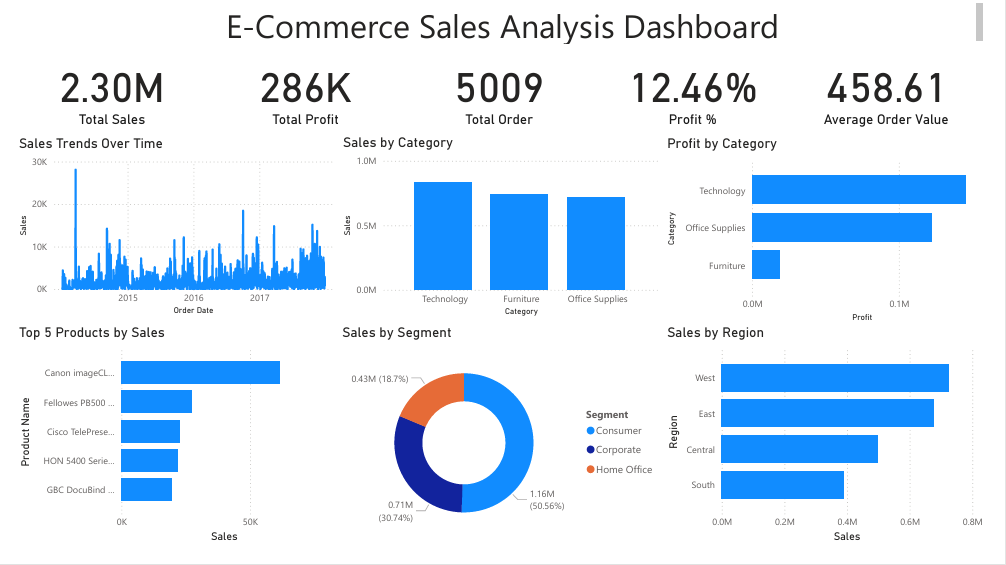

The dashboard page shown, as its layout file describes it:
{"tool":"powerbi","page":{"name":"order","canvas":[1280,720],"ordinal":0},"visuals":[{"type":"card","fields":{"Values":["Superstore.Total Sales"]},"box":[0,63.3,255,115],"z":0},{"type":"card","fields":{"Values":["Superstore.Total Profit"]},"box":[255,63.3,255,115],"z":1000},{"type":"card","fields":{"Values":["Superstore.Profit %"]},"box":[765,63.3,255,115],"z":2000},{"type":"card","fields":{"Values":["Superstore.Total Order"]},"box":[510,63.3,255,115],"z":3000},{"type":"lineChart","title":"Sales Trends Over Time","fields":{"Y":["Sum(Superstore.Sales)"],"Category":["Superstore.Order Date"]},"box":[0,178.8,426.2,242.5],"z":4000},{"type":"clusteredColumnChart","fields":{"Category":["Superstore.Category"],"Y":["Sum(Superstore.Sales)"]},"box":[426.7,178.3,426.7,243.3],"z":5000},{"type":"barChart","fields":{"Category":["Superstore.Category"],"Y":["Sum(Superstore.Profit)"]},"box":[853.8,178.8,426.2,250],"z":6000},{"type":"clusteredBarChart","fields":{"Category":["Superstore.Region"],"Y":["Sum(Superstore.Sales)"]},"box":[853.6,428.2,426.4,291.8],"z":7000},{"type":"donutChart","fields":{"Category":["Superstore.Segment"],"Y":["Sum(Superstore.Sales)"]},"box":[426.4,428.2,427.3,291.8],"z":8000},{"type":"textbox","box":[0,0,1280,63.3],"z":9000},{"type":"clusteredBarChart","title":"Top 5 Products by Sales","fields":{"Category":["Superstore.Product Name"],"Y":["Sum(Superstore.Sales)"]},"box":[0,428,426,292],"z":10000},{"type":"card","fields":{"Values":["Superstore.Average Order"]},"box":[1020,63.3,255,115],"z":11000}]}

Visuals, with their boxes in screenshot pixels (x1, y1, x2, y2), scaled from the page's 1280x720 canvas onto the 1006x565 screenshot:
card - Superstore.Total Sales: (x1=0, y1=50, x2=200, y2=140)
card - Superstore.Total Profit: (x1=200, y1=50, x2=401, y2=140)
card - Superstore.Profit %: (x1=601, y1=50, x2=802, y2=140)
card - Superstore.Total Order: (x1=401, y1=50, x2=601, y2=140)
"Sales Trends Over Time" lineChart: (x1=0, y1=140, x2=335, y2=331)
clusteredColumnChart - Superstore.Category x Sum(Superstore.Sales): (x1=335, y1=140, x2=671, y2=331)
barChart - Superstore.Category x Sum(Superstore.Profit): (x1=671, y1=140, x2=1005, y2=336)
clusteredBarChart - Superstore.Region x Sum(Superstore.Sales): (x1=671, y1=336, x2=1005, y2=564)
donutChart - Superstore.Segment x Sum(Superstore.Sales): (x1=335, y1=336, x2=671, y2=564)
textbox: (x1=0, y1=0, x2=1005, y2=50)
"Top 5 Products by Sales" clusteredBarChart: (x1=0, y1=336, x2=335, y2=564)
card - Superstore.Average Order: (x1=802, y1=50, x2=1002, y2=140)
